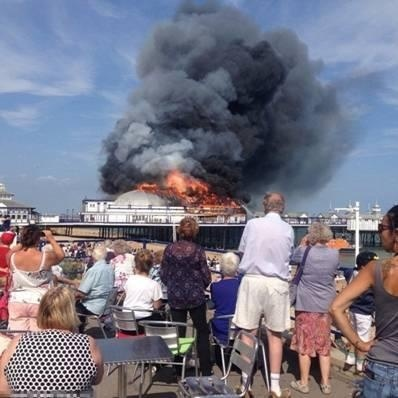fire: (139, 171, 237, 208)
